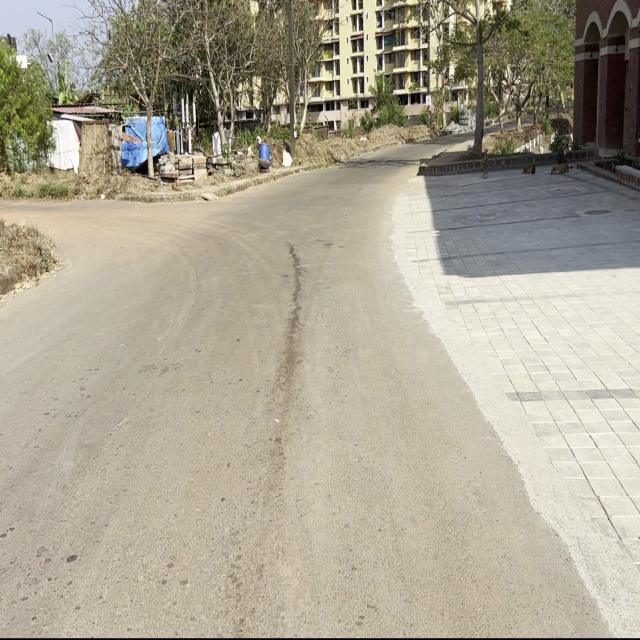Road: (1, 163, 602, 640)
